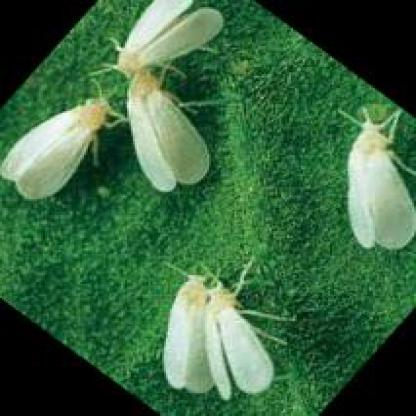whitefly: (3, 100, 110, 202), (124, 70, 211, 190), (345, 122, 414, 249)
